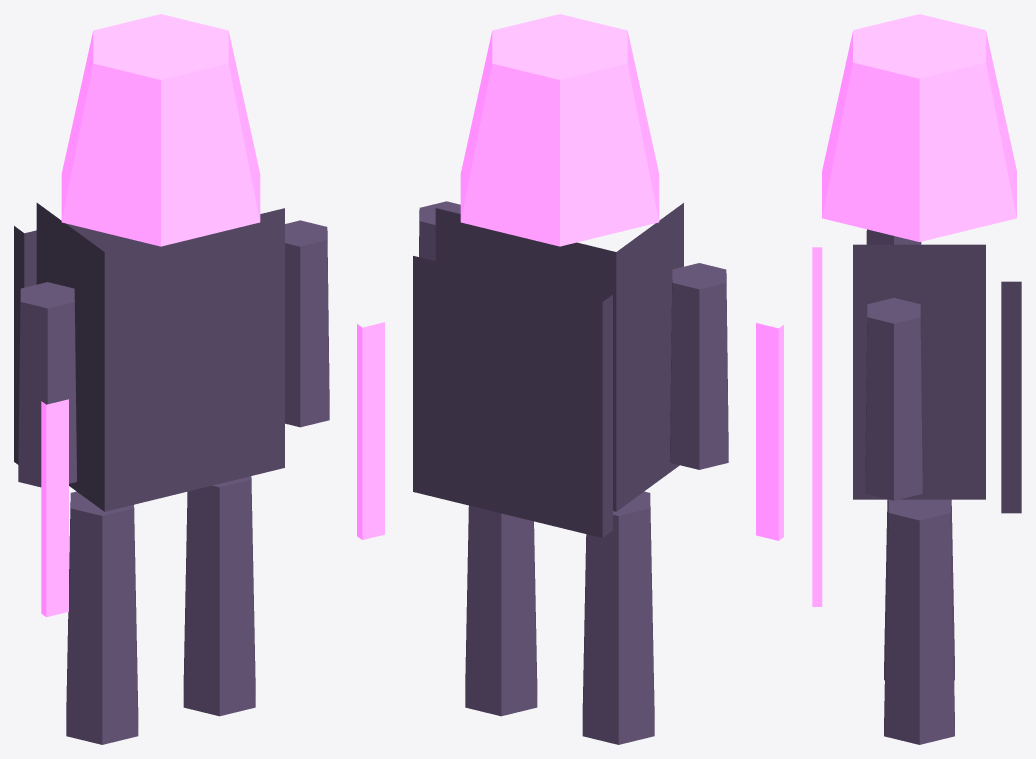
File: hero_nyra.glb
The picture shows the model from 3 angles, left to right: view 1: azimuth 30°, elevation 25°; view 2: azimuth 150°, elevation 25°; view 3: azimuth 270°, elevation 25°; orthographic projection.
Parts seen in each view (by area): view 1: Torso, Head, LeftLeg, RightLeg, Weapon, LeftArm, RightArm, Cape; view 2: Cape, Head, Torso, LeftLeg, RightLeg, LeftArm, Weapon, RightArm; view 3: Head, Torso, RightLeg, RightArm, Cape, Weapon, LeftLeg, LeftArm.
Part boxes in pixels (x1=…): Torso: x1=36, y1=203, x2=284, y2=511; Head: x1=61, y1=14, x2=260, y2=246; LeftLeg: x1=66, y1=491, x2=138, y2=744; RightLeg: x1=183, y1=476, x2=255, y2=716; Weapon: x1=41, y1=322, x2=384, y2=617; LeftArm: x1=18, y1=282, x2=76, y2=487; RightArm: x1=285, y1=220, x2=329, y2=427; Cape: x1=14, y1=223, x2=143, y2=464; Cape: x1=413, y1=256, x2=612, y2=537; Head: x1=460, y1=14, x2=659, y2=246; Torso: x1=435, y1=203, x2=683, y2=511; LeftLeg: x1=582, y1=491, x2=654, y2=744; RightLeg: x1=465, y1=505, x2=537, y2=716; LeftArm: x1=670, y1=263, x2=728, y2=469; Weapon: x1=756, y1=323, x2=783, y2=540; RightArm: x1=419, y1=201, x2=460, y2=260; Head: x1=822, y1=14, x2=1016, y2=241; Torso: x1=853, y1=244, x2=985, y2=499; RightLeg: x1=884, y1=499, x2=954, y2=744; RightArm: x1=865, y1=298, x2=922, y2=500; Cape: x1=1001, y1=281, x2=1021, y2=513; Weapon: x1=812, y1=247, x2=822, y2=606; LeftLeg: x1=884, y1=499, x2=954, y2=680; LeftArm: x1=866, y1=229, x2=921, y2=244.
Bounding box in the file's own units: 0.75 × 1.41 × 0.41.
